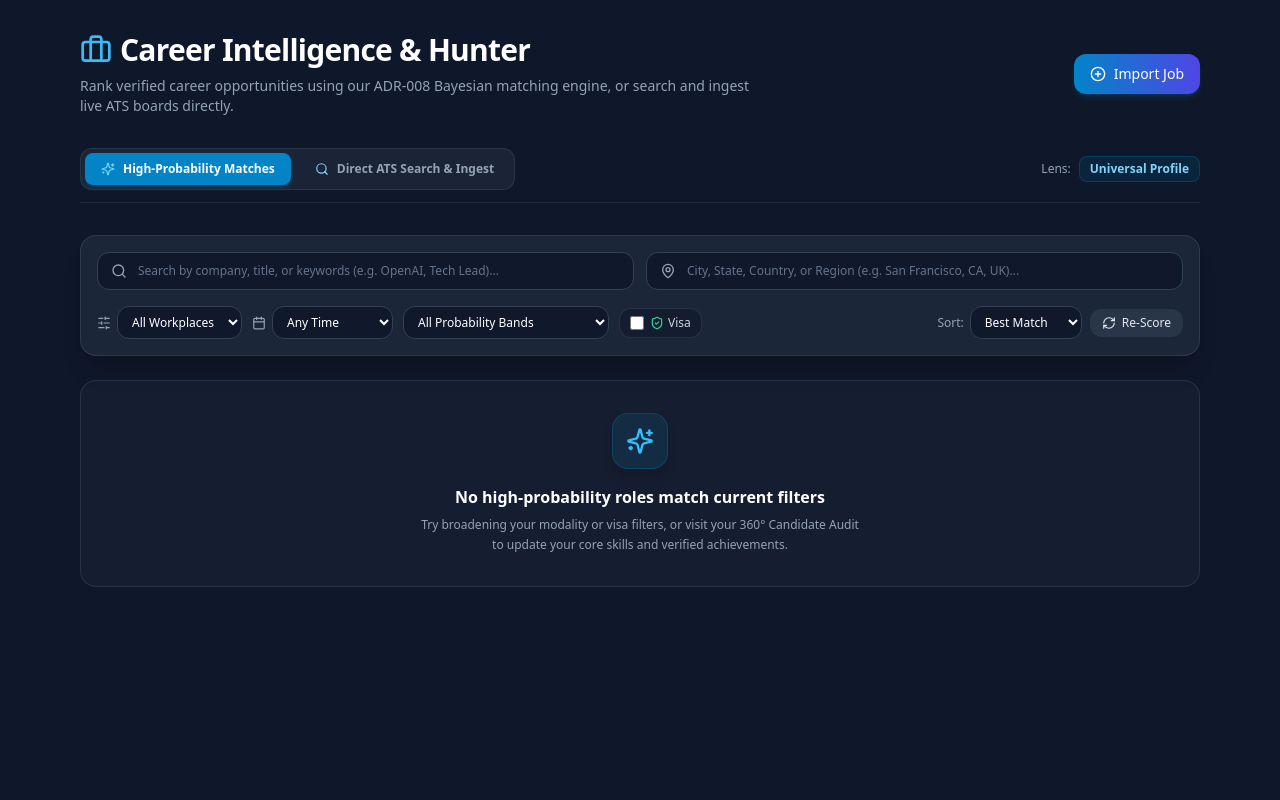
Test case: Dashboard Dual-Mode: Matches and ATS Search › Direct ATS Search & Ingest Tab › can switch between Matches and ATS Search tabs via tab buttons
This screenshot has width=1280, height=800.
Expected: the button "High-Probability Matches" is shown, [85,153,291,185]
Click the button "Direct ATS Search & Ingest". click: (404, 169)
box: [299,153,510,185]
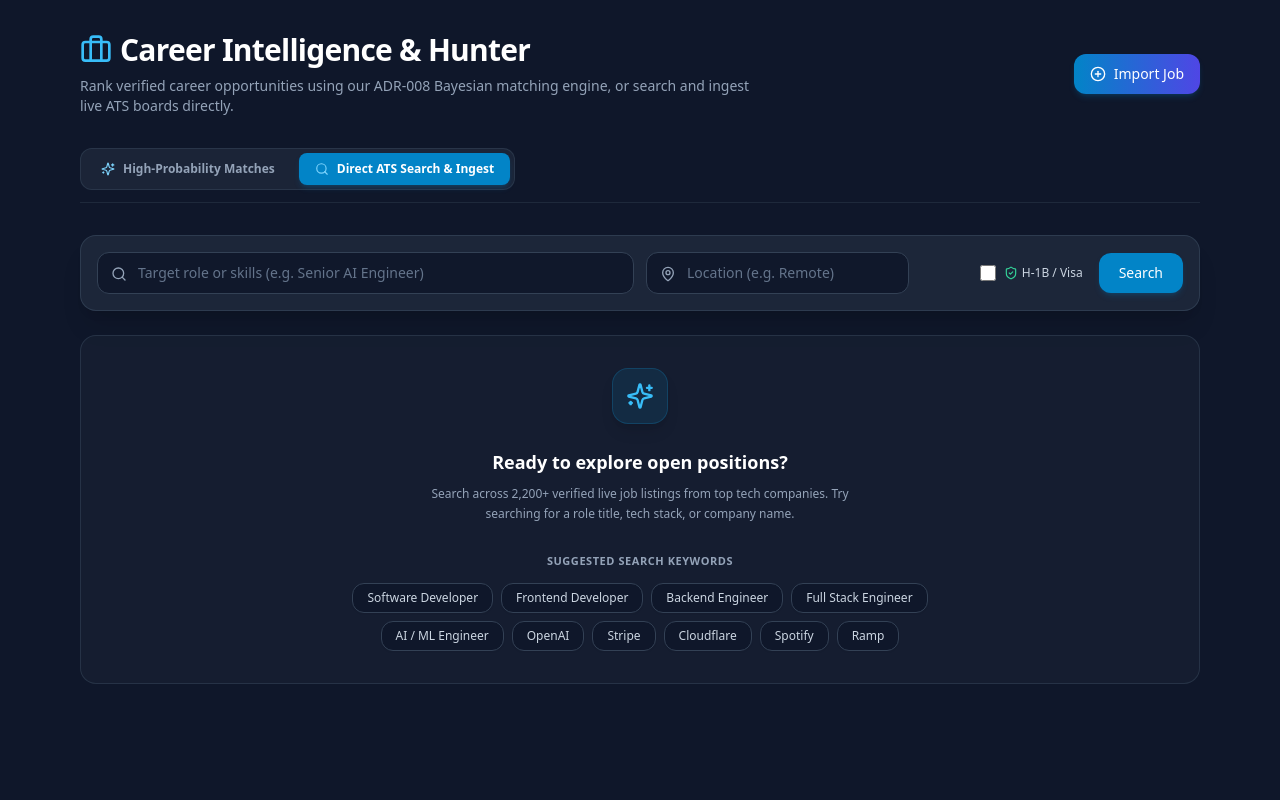
Now the text "Suggested Search Keywords" is shown, box [547,553,733,568]
